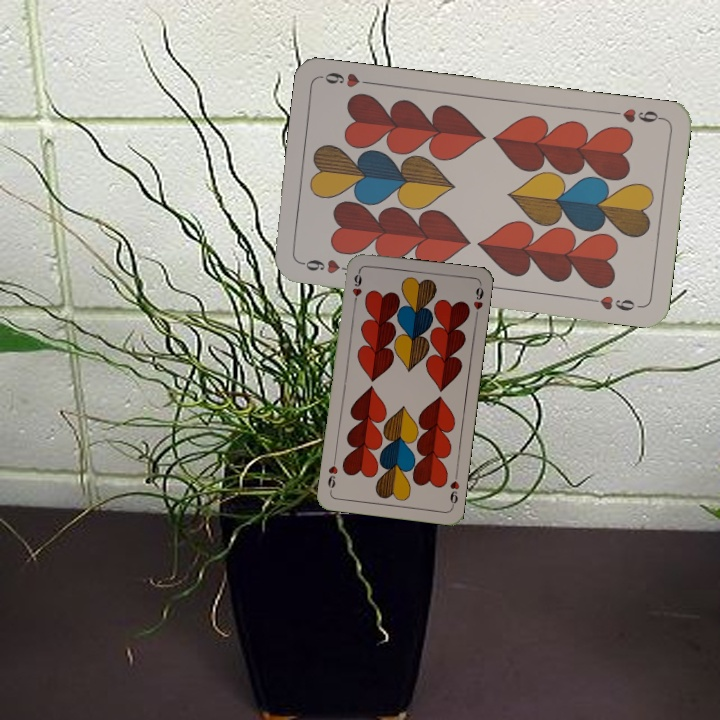H9: (607, 104, 666, 125), (296, 255, 355, 276), (446, 469, 462, 510), (348, 267, 364, 307)
